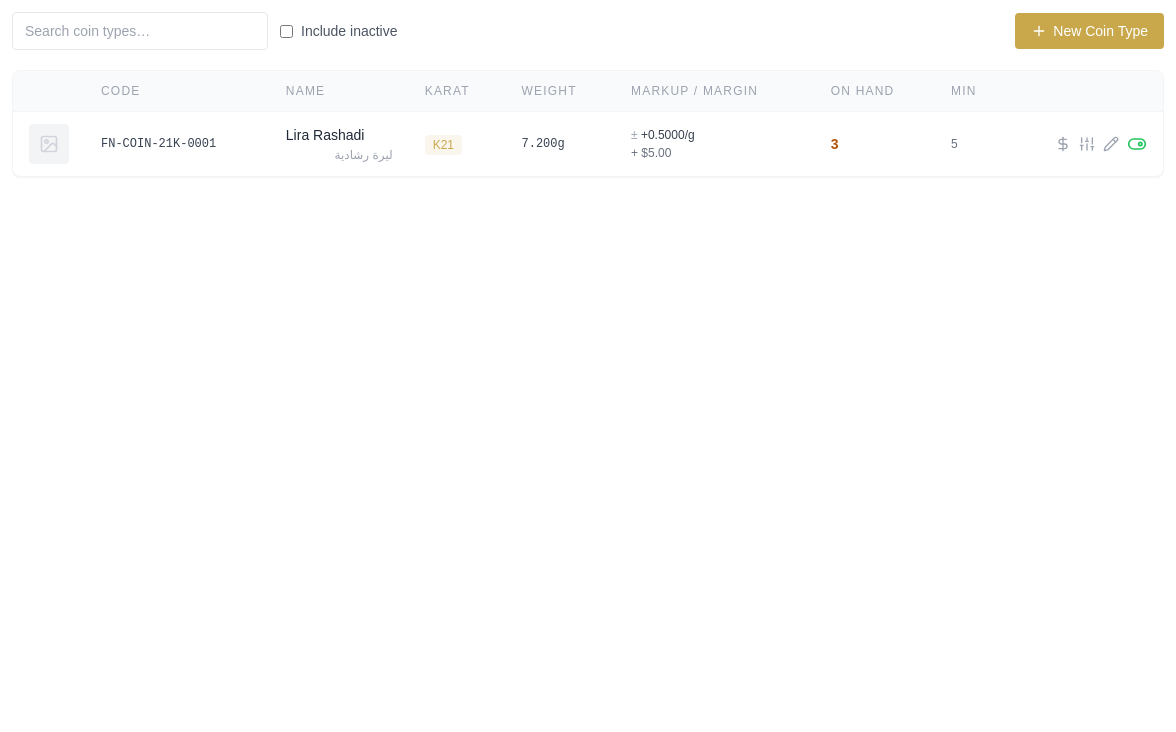
it: UnitCatalog labels (NEX-64) › the edit form labels the read-only code and loads the stored decimals
The image size is (1176, 732).
Click the button named "Edit: FN-COIN-21K-0001". click: [1111, 144]
box: 1103,136 -> 1119,152
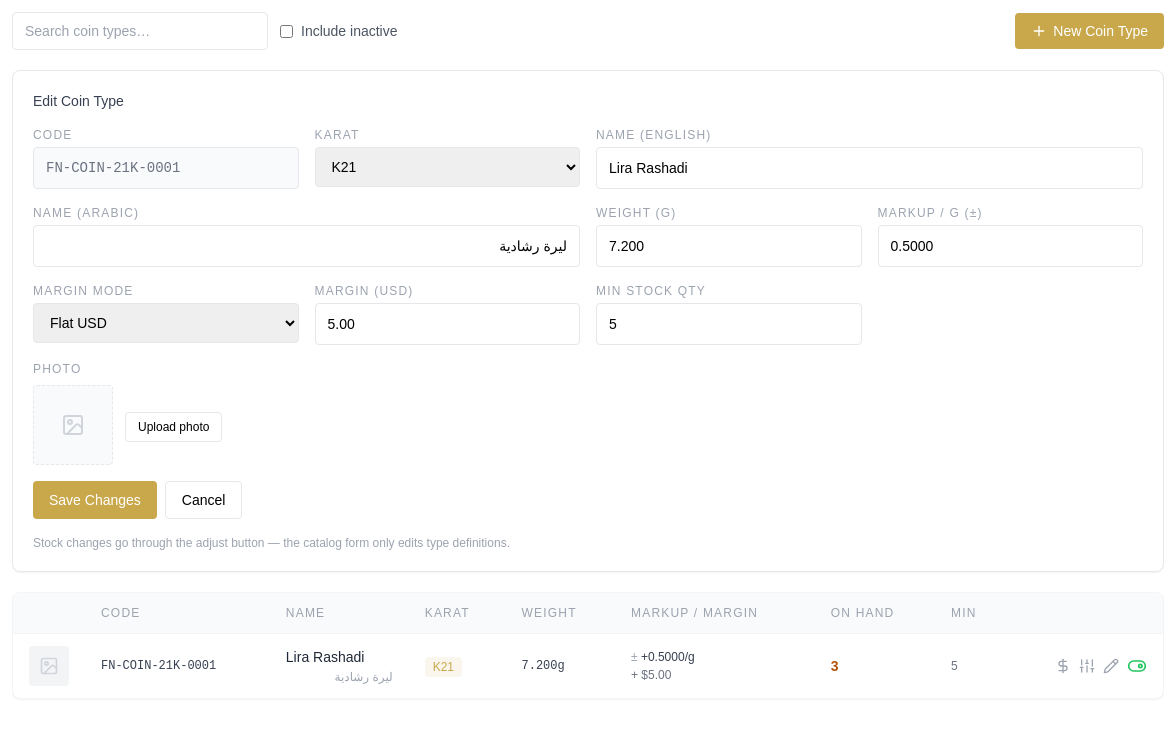
Expected: the label "Code" is shown, 33,127 -> 298,189
Expected: the field labelled "Code" is disabled, 33,147 -> 298,189
Expected: the field labelled "Code" holds "FN-COIN-21K-0001", 33,147 -> 298,189
